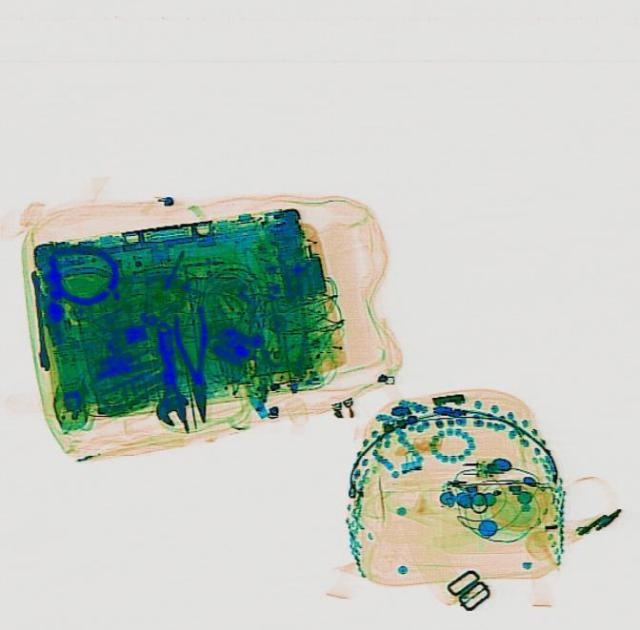Pliers: (164, 301, 220, 423)
Wrench: (140, 317, 190, 426), (28, 265, 48, 369)
